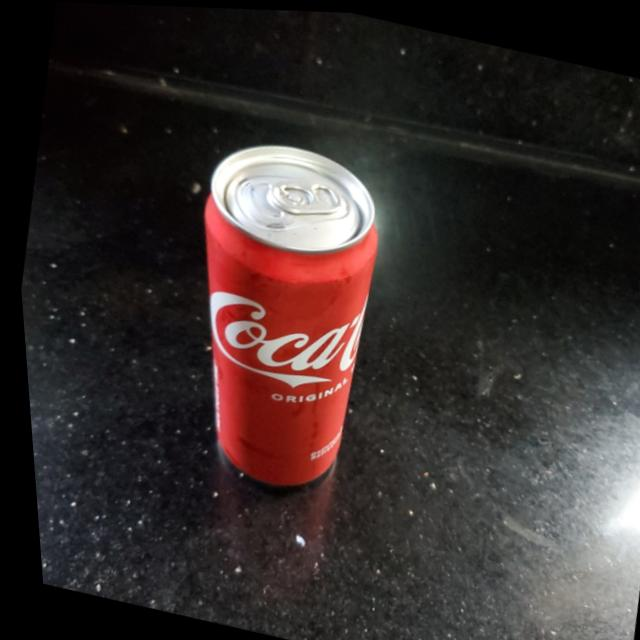coke: (149, 124, 404, 496)
